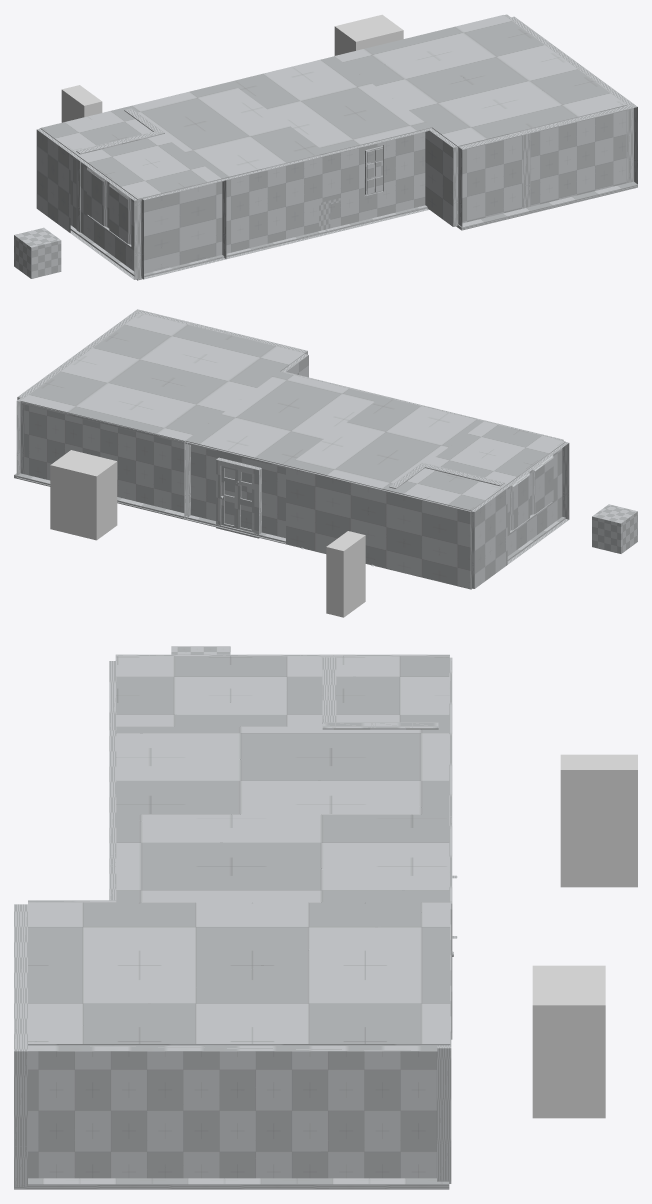
File: player_house1991s_fixed_scale.glb
3 views of the same model, one above another, from view 1: azimuth 30°, elevation 25°; view 2: azimuth 150°, elevation 25°; view 3: azimuth 270°, elevation 25° (orthographic). The views are drawn at different scales.
Parts seen in each view (by area): view 1: floor_1x2.003, wall_1x1, wall_1x1.002, floor_1x2.004, floor_1x2.005, floor_1x1.001, wall_1x2.001, wall_window1x1.002, wall_1x2.006, prototype texture parrent, door bool, wall_window1x1.004 (+10 smaller); view 2: floor_1x2.003, wall_1x2.002, wall_1x1.005, floor_1x2.004, floor_1x2.005, floor_1x1.001, wall_window1x1.002, door bool, door bool 2, frount door, prototype texture parrent, wall_window1x1.004 (+5 smaller); view 3: floor_1x2.003, wall_1x1.006, floor_1x2.004, floor_1x2.005, floor_1x1.001, door bool, door bool 2, floor_1x2.006, wall_1x1.002, wall_1x1.005, wall_1x1, wall_1x2.002 (+3 smaller).
Part boxes in pixels (left/top/right/bottom): floor_1x2.003: left=334, top=15, right=626, bottom=146; wall_1x1: left=225, top=129, right=429, bottom=259; wall_1x1.002: left=458, top=104, right=637, bottom=226; floor_1x2.004: left=230, top=56, right=431, bottom=155; floor_1x2.005: left=125, top=82, right=326, bottom=181; floor_1x1.001: left=40, top=107, right=221, bottom=200; wall_1x2.001: left=141, top=178, right=226, bottom=279; wall_window1x1.002: left=36, top=128, right=141, bottom=279; wall_1x2.006: left=425, top=128, right=458, bottom=226; prototype texture parrent: left=14, top=227, right=61, bottom=278; door bool: left=334, top=14, right=403, bottom=55; wall_window1x1.004: left=87, top=170, right=127, bottom=243; floor_1x2.003: left=20, top=313, right=304, bottom=443; wall_1x2.002: left=184, top=442, right=471, bottom=588; wall_1x1.005: left=16, top=398, right=190, bottom=518; floor_1x2.004: left=185, top=371, right=381, bottom=467; floor_1x2.005: left=287, top=396, right=483, bottom=490; floor_1x1.001: left=389, top=421, right=565, bottom=510; wall_window1x1.002: left=471, top=442, right=569, bottom=588; door bool: left=50, top=450, right=117, bottom=540; door bool 2: left=326, top=531, right=365, bottom=617; frount door: left=220, top=466, right=254, bottom=532; prototype texture parrent: left=592, top=504, right=637, bottom=553; wall_window1x1.004: left=513, top=458, right=553, bottom=529; floor_1x2.003: left=28, top=902, right=450, bottom=1045; wall_1x1.006: left=28, top=1045, right=437, bottom=1178; floor_1x2.004: left=116, top=814, right=449, bottom=902; floor_1x2.005: left=116, top=726, right=449, bottom=814; floor_1x1.001: left=116, top=656, right=449, bottom=726; door bool: left=532, top=965, right=605, bottom=1118; door bool 2: left=560, top=754, right=637, bottom=887; floor_1x2.006: left=14, top=1178, right=449, bottom=1189; wall_1x1.002: left=14, top=904, right=27, bottom=1186; wall_1x1.005: left=437, top=901, right=451, bottom=1183; wall_1x1: left=109, top=730, right=116, bottom=900; wall_1x2.002: left=449, top=657, right=457, bottom=1039.
Bounding box in the file's own units: 26.68 × 4.07 × 15.
Materials: 1 (1 with a texture image).
